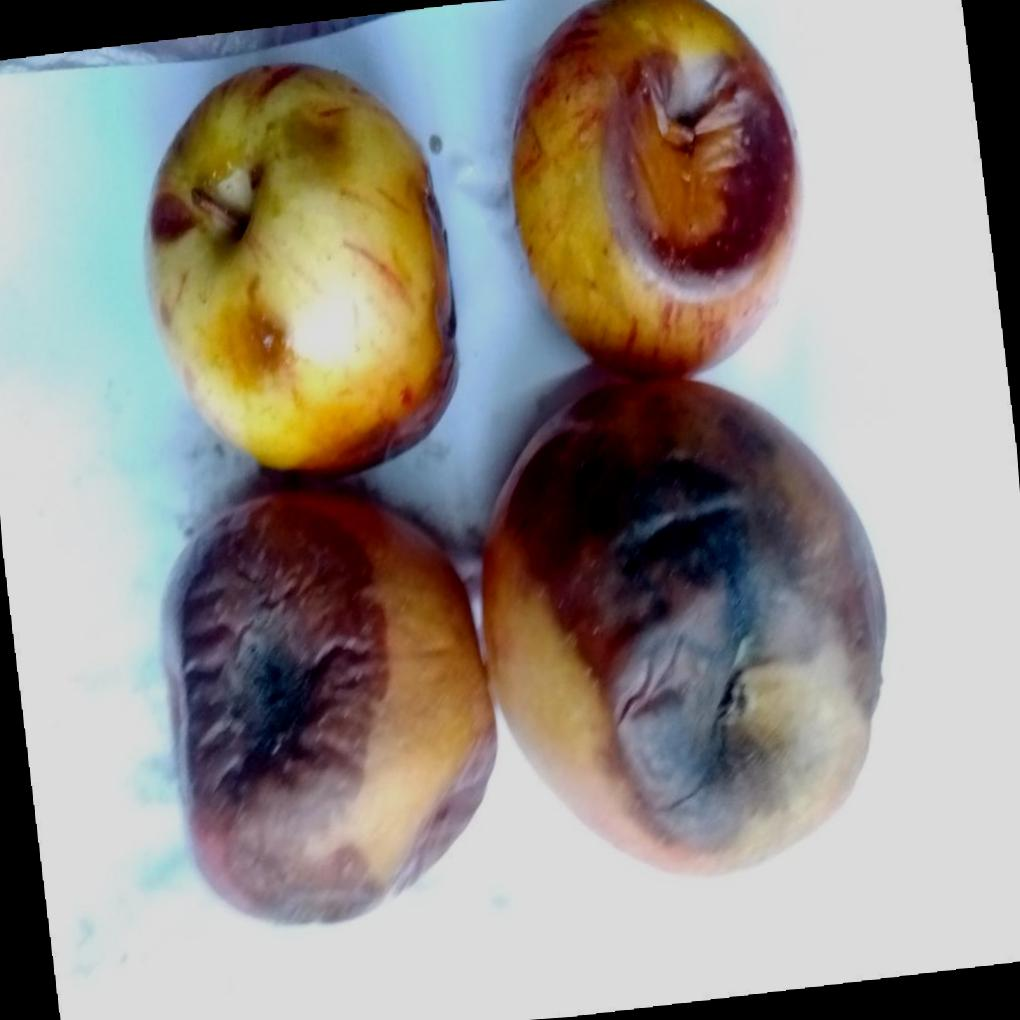FreshOrange: (142, 0, 863, 926)
